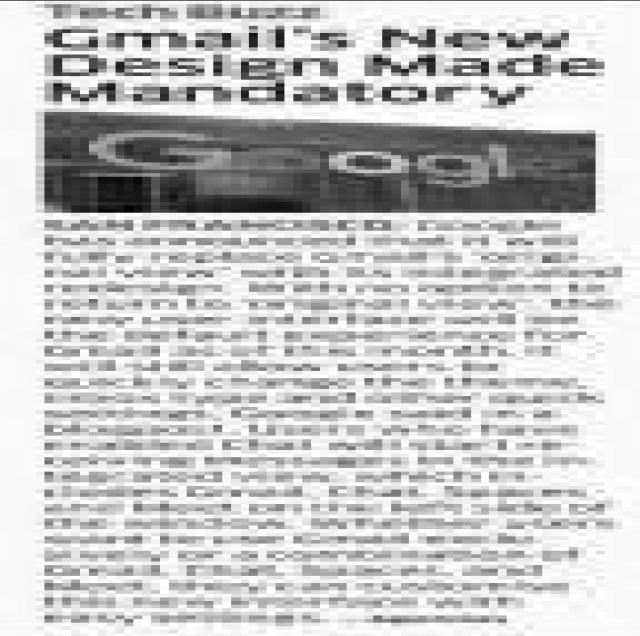paper: (0, 1, 640, 635)
